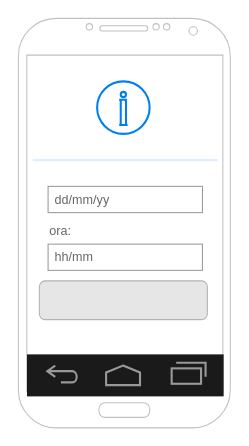
Some shapes in this 249 by 446 pixel diagram are drawn without their labels. Each missing label, with the centre of its shape:
"conferma prenotazione" goes at pixel 122 300.
"giorno:" goes at pixel 99 175.
